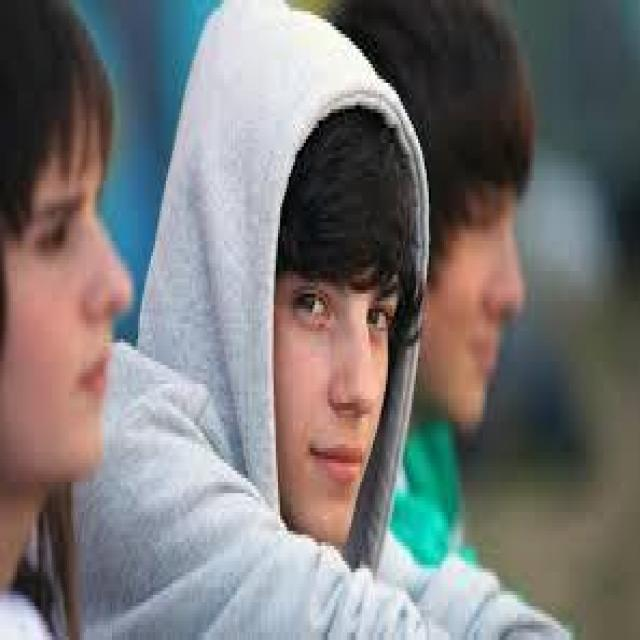person: (151, 15, 435, 629), (356, 0, 532, 463), (2, 11, 134, 595)
